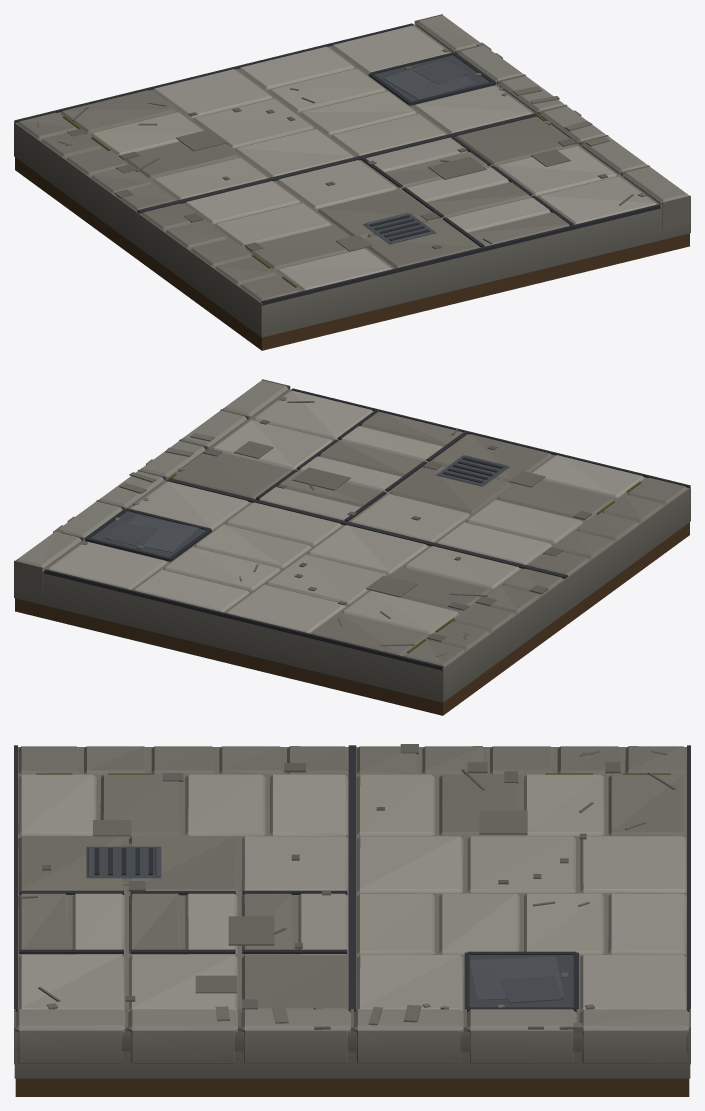
The model's file is sidewalk-01.glb.
3 renders of one model, top to bottom at view 1: azimuth 30°, elevation 25°; view 2: azimuth 150°, elevation 25°; view 3: azimuth 270°, elevation 25°, orthographic. The views are drawn at different scales.
Visible parts, largest first — view 1: sidewalk_01; view 2: sidewalk_01; view 3: sidewalk_01.
Part boxes in pixels (x1,y1,x2,y2): sidewalk_01: (14,14,690,350); sidewalk_01: (14,379,690,715); sidewalk_01: (14,744,690,1096).
Size of the model in its own units: 4 by 0.4751 by 4.
